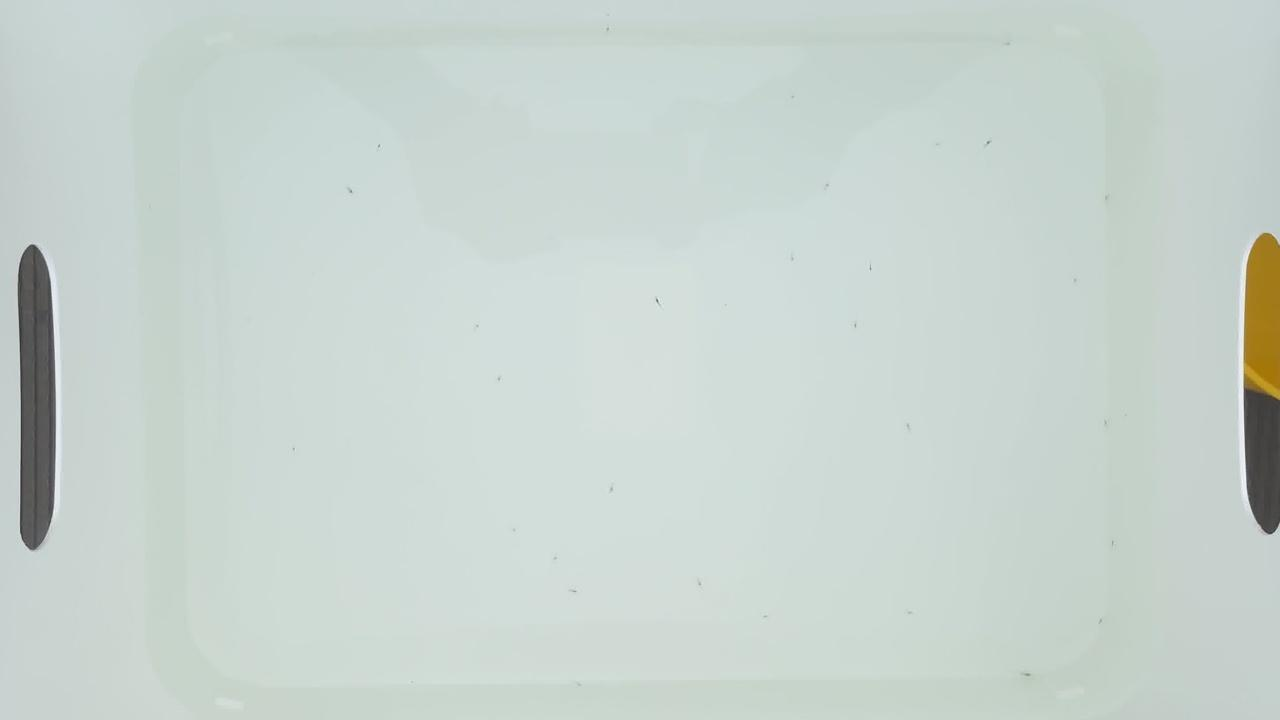shrimp: (1024, 671, 1036, 679), (1095, 617, 1107, 625), (1107, 541, 1119, 549), (1101, 420, 1113, 428), (907, 608, 919, 616), (761, 614, 773, 622), (695, 579, 707, 587), (570, 588, 582, 596), (548, 554, 560, 562), (510, 524, 522, 532), (607, 486, 619, 494), (496, 374, 508, 382), (469, 408, 481, 416), (473, 321, 485, 329), (652, 297, 664, 305), (286, 446, 298, 454), (850, 323, 862, 331), (904, 427, 916, 435), (1070, 277, 1082, 285), (1102, 195, 1114, 203), (986, 139, 998, 147), (1003, 41, 1015, 49), (933, 139, 945, 147), (865, 265, 877, 273), (821, 182, 833, 190), (788, 254, 800, 262), (345, 186, 357, 194), (374, 144, 386, 152), (604, 26, 616, 34)
